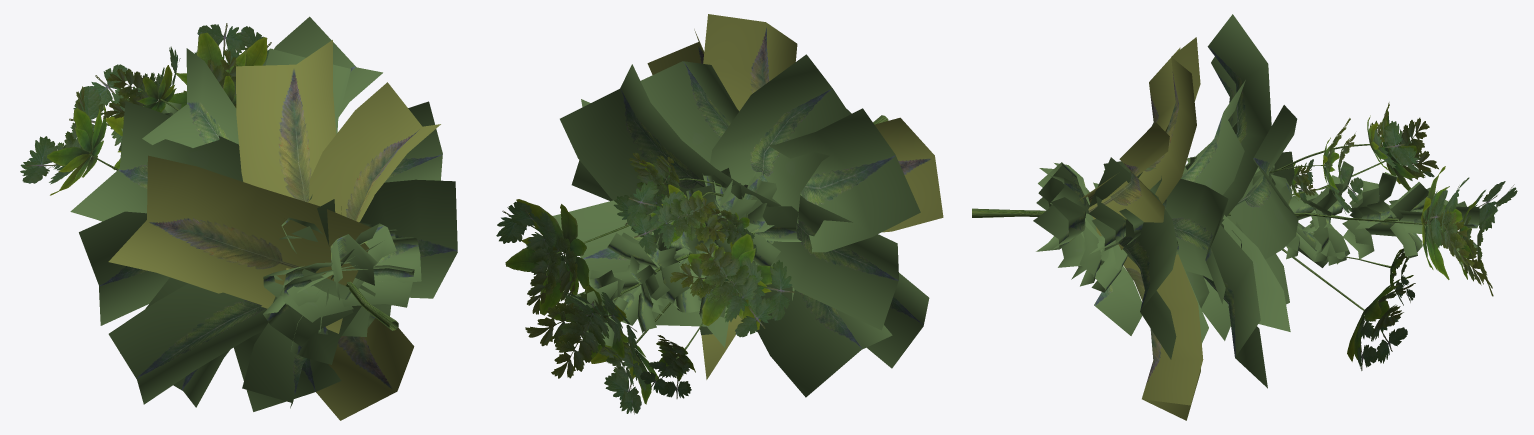
File: plant1.FBX
The picture shows the model from 3 angles, left to right: view 1: azimuth 30°, elevation 25°; view 2: azimuth 150°, elevation 25°; view 3: azimuth 270°, elevation 25°; orthographic projection. The views are drawn at different scales.
Visible parts, largest first — view 1: plant1_LOD0; view 2: plant1_LOD0; view 3: plant1_LOD0.
Boxes of the visible parts, x1,y1,x2,y2 form: plant1_LOD0: (20, 16, 457, 420); plant1_LOD0: (496, 14, 943, 414); plant1_LOD0: (972, 14, 1517, 420).
Bounding box in the file's own units: 132 × 188 × 133.
